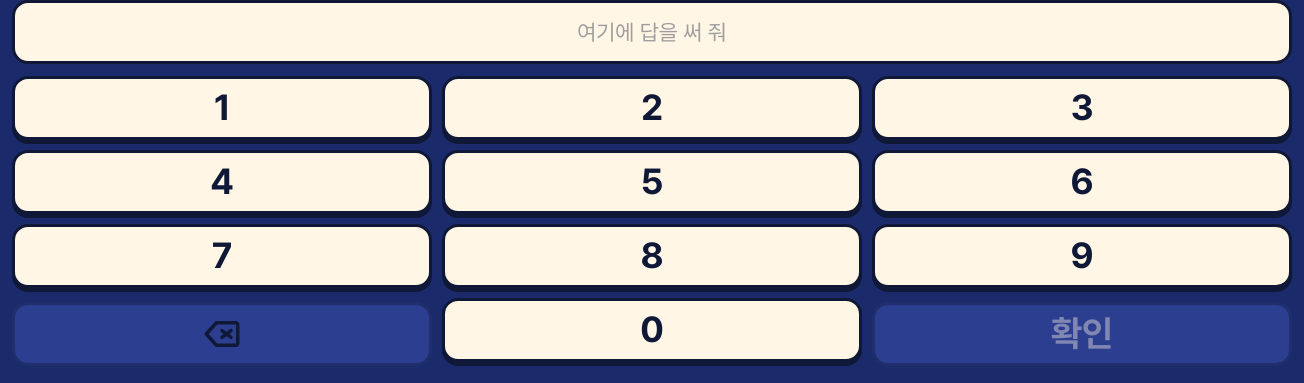
NumPad › 누른 숫자가 순서대로 쌓인다
Click the button "4". click: {"x": 222, "y": 182}
box: [12,150,432,214]
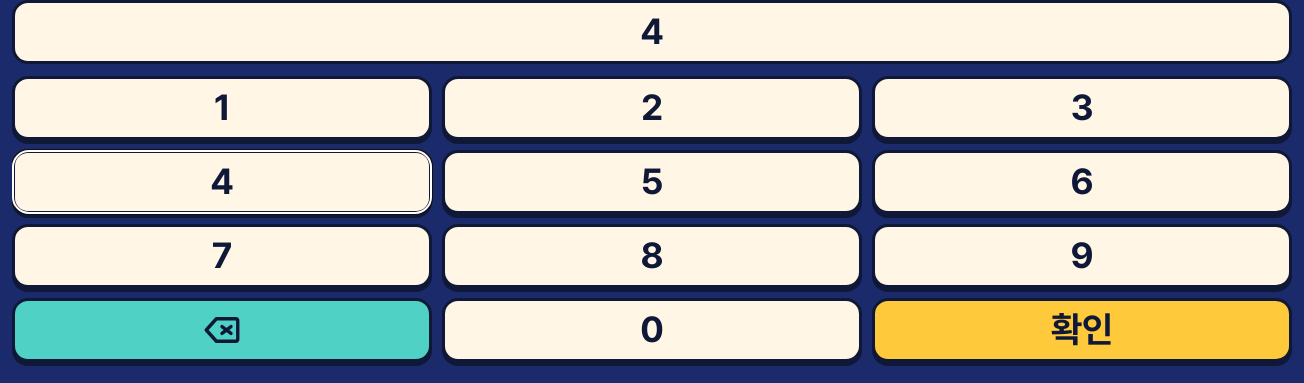
Click the button "2". click: {"x": 652, "y": 108}
box: [442,76,862,140]
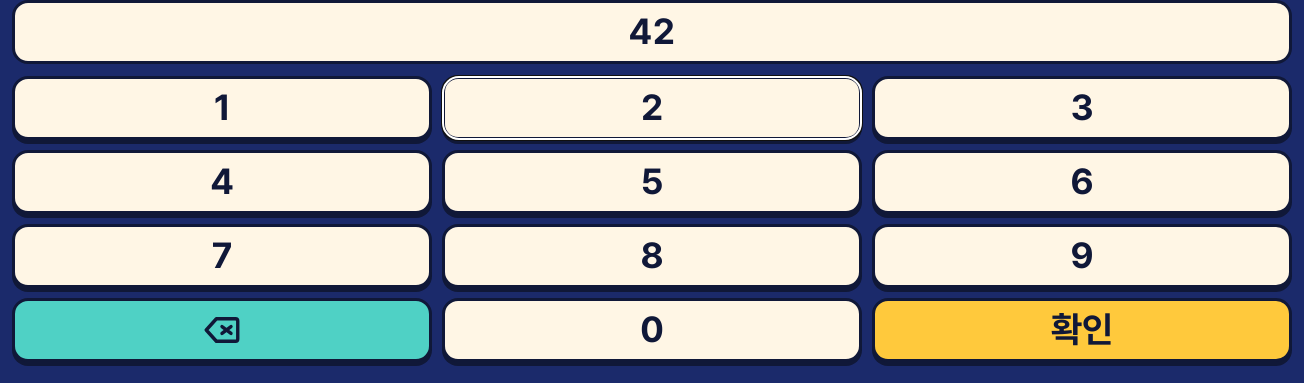
Check: the element named "내가 쓴 답" reads "42", box [628,10,676,53]
